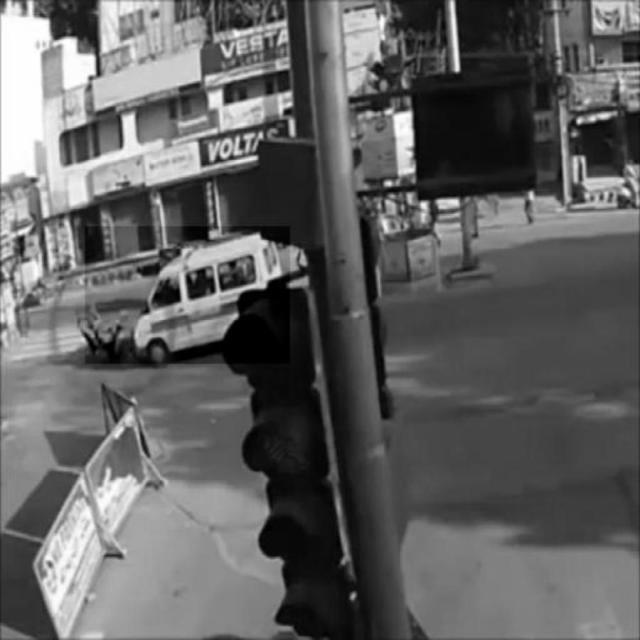accident: (85, 227, 290, 364)
